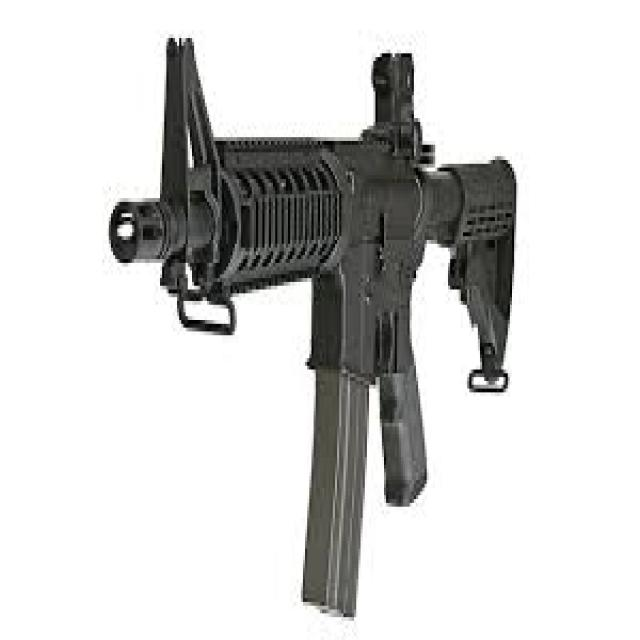rifle: (104, 15, 531, 634)
